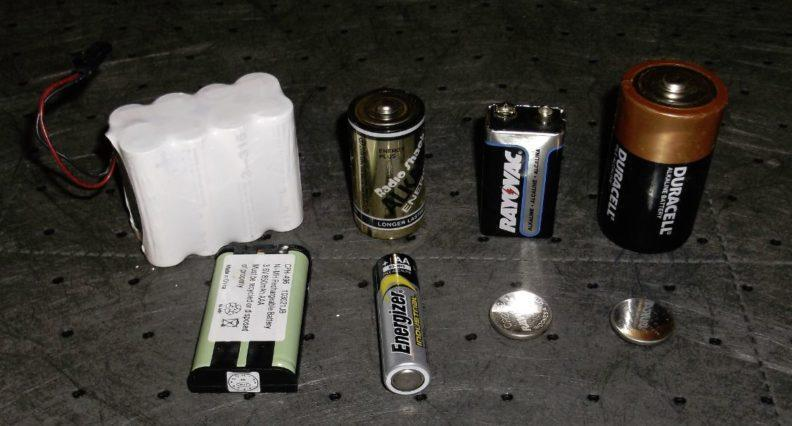9V: (482, 101, 568, 241)
AA: (372, 250, 434, 398)
COIN: (488, 286, 554, 341), (608, 296, 675, 346)
